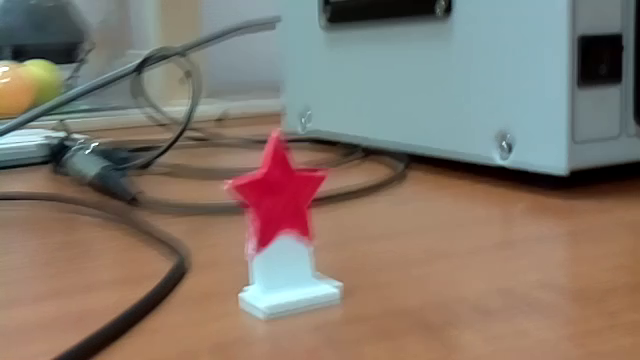star: (201, 131, 366, 325)
